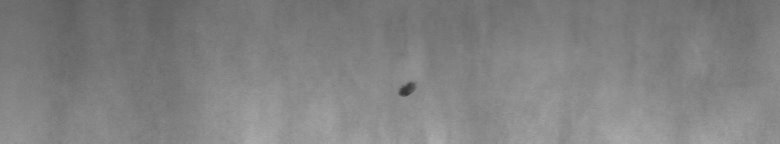fi: (395, 76, 420, 104)
